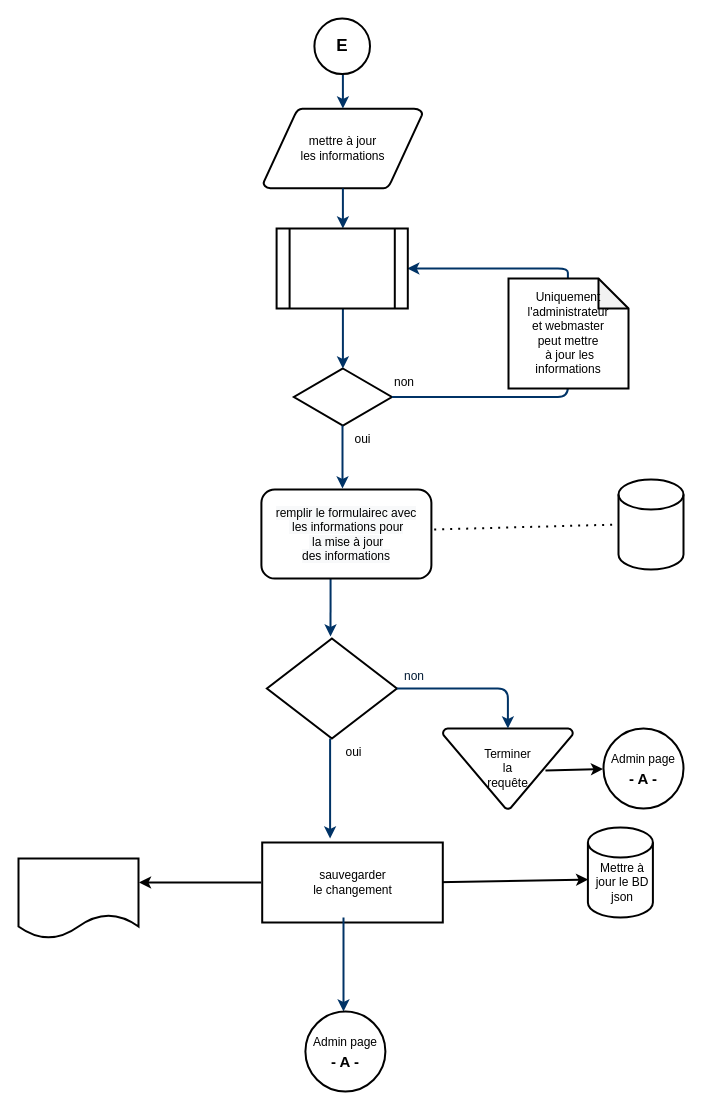
This 701x1109 diagram has some shape labels left out. The shapes that lost their labels are listed below. From the top down, each one's box as (x1, y1, x2, y2) in pixels, then its label:
(275, 227, 408, 309): vérifier pour autorisation
(292, 367, 392, 426): Autorisation?
(617, 478, 684, 570): BD json
(265, 637, 397, 739): Submit ?
(17, 857, 139, 939): générer une nouvelle page html
